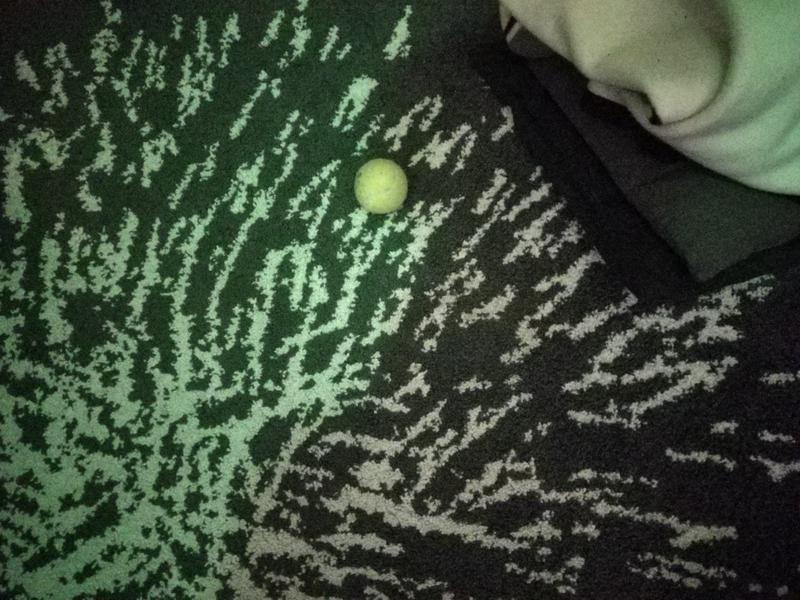Tennisball: (349, 155, 411, 218)
